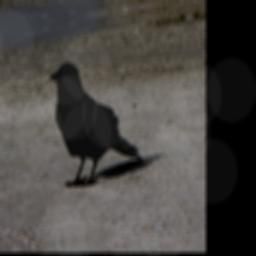Crow: (46, 49, 146, 192)
